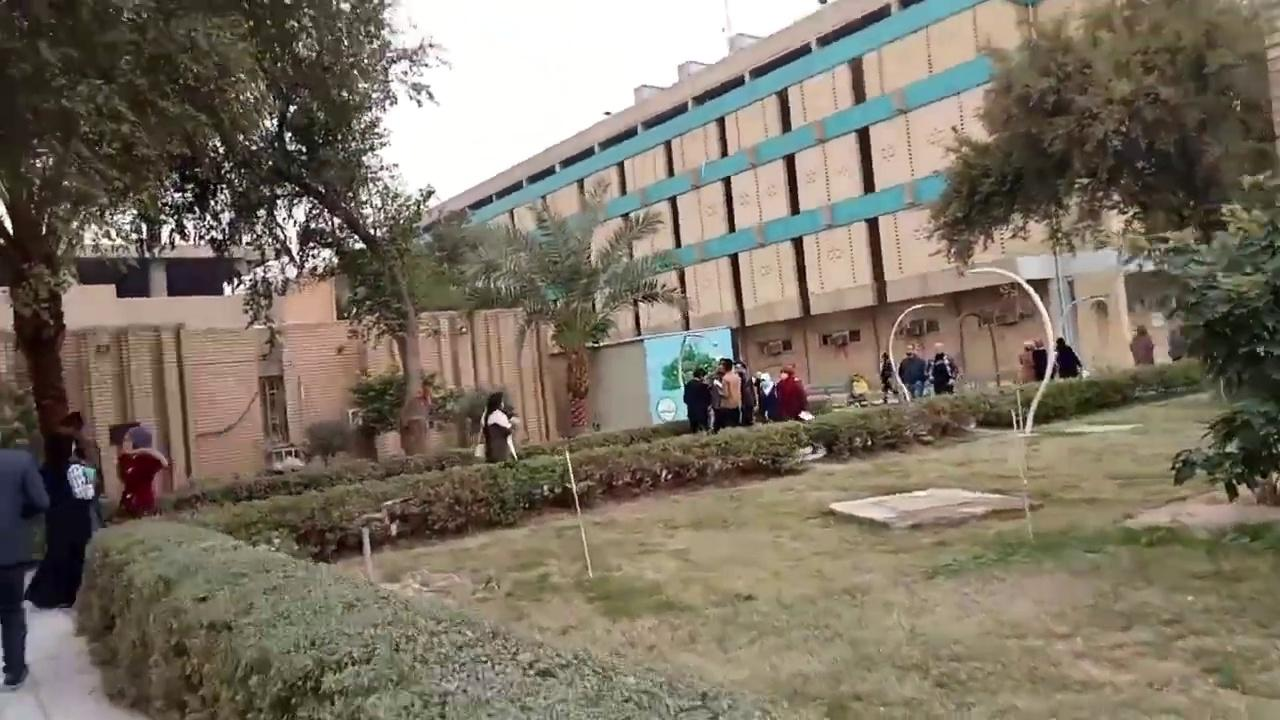person: (25, 428, 104, 608), (0, 443, 50, 690), (116, 426, 169, 518), (479, 392, 516, 463), (399, 384, 433, 455), (1053, 336, 1082, 379), (1129, 324, 1154, 365), (878, 351, 895, 403), (847, 373, 869, 406), (1031, 337, 1047, 381), (1167, 327, 1185, 362)
tree: (0, 0, 455, 469), (914, 0, 1278, 505), (71, 513, 783, 718), (439, 176, 689, 439), (1150, 166, 1279, 506)
